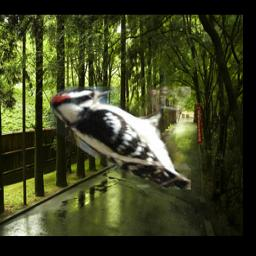Woodpecker: (51, 87, 192, 190)
